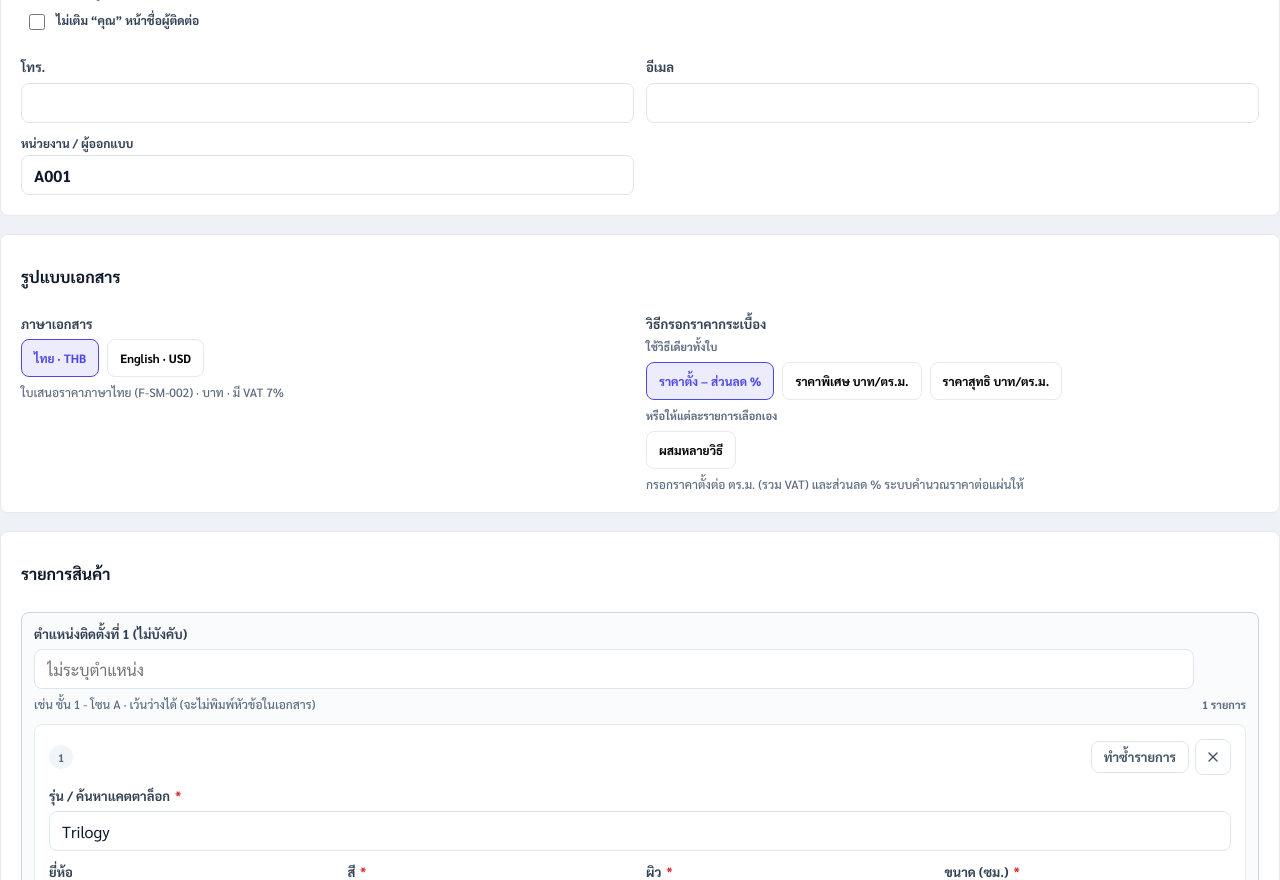
Test case: the "วิธีกรอกราคากระเบื้อง" choice — one mode for the whole document, or a mix › choosing ผสมหลายวิธี says what it means: several methods in one quotation, picked per row
(page scrolled)
Expected: the element named "วิธีกรอกราคากระเบื้อง" is shown, [646, 339, 1062, 469]
Click the button "ผสมหลายวิธี" at (691, 450), box [646, 431, 736, 469]
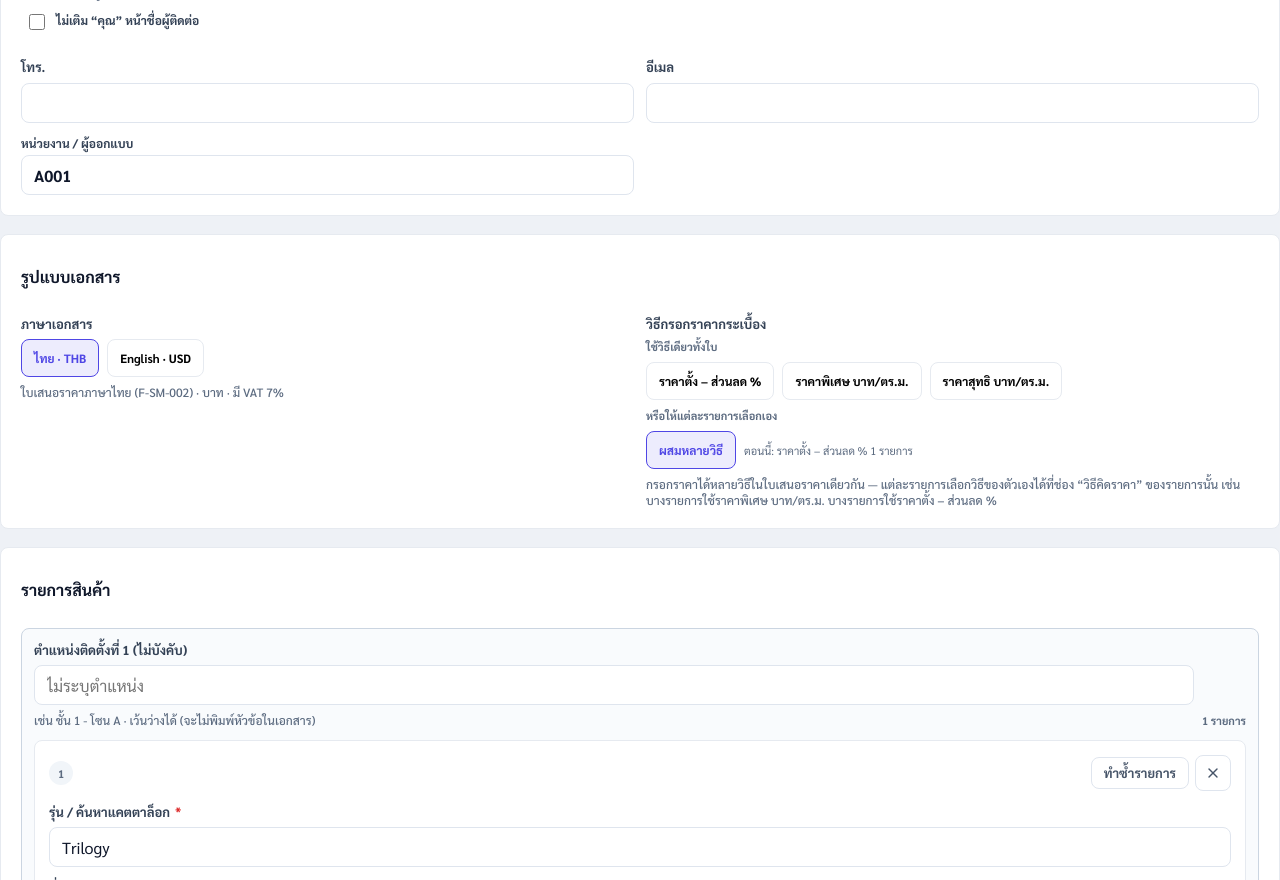
Expected: the text "กรอกราคาได้หลายวิธีในใบเสนอราคาเดียวกัน" shows "แต่ละรายการ", [646, 476, 1240, 508]
Expected: the text "กรอกราคาได้หลายวิธีในใบเสนอราคาเดียวกัน" shows "วิธีคิดราคา", [646, 476, 1240, 508]
